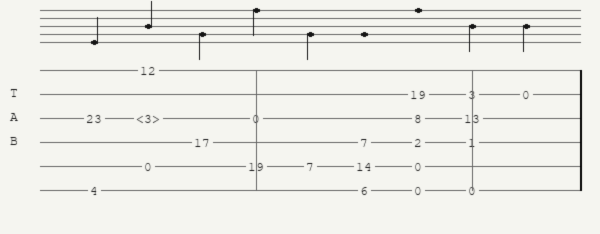0: (144, 160, 156, 172), (252, 112, 264, 124), (414, 160, 426, 172), (414, 184, 426, 196), (468, 184, 480, 196), (522, 88, 534, 100)
1: (468, 136, 480, 148)
12: (140, 64, 160, 76)
13: (464, 112, 484, 124)
14: (356, 160, 376, 172)
17: (194, 136, 214, 148)
19: (248, 160, 268, 172), (410, 88, 430, 100)
2: (414, 136, 426, 148)
23: (86, 112, 106, 124)
3: (468, 88, 480, 100)
4: (90, 184, 102, 196)
6: (360, 184, 372, 196)
7: (306, 160, 318, 172), (360, 136, 372, 148)
8: (414, 112, 426, 124)
harmonic: (136, 112, 164, 125)
